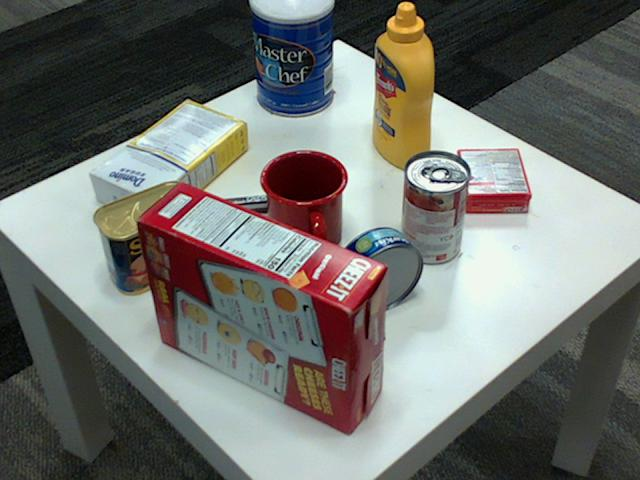cracker_box: (134, 181, 385, 431)
gelatin_box: (457, 149, 533, 211)
large_marker: (204, 190, 312, 219)
master_chef_can: (248, 0, 332, 116)
mug: (260, 146, 349, 255)
mustard_bottle: (372, 3, 433, 169)
potted_meat_can: (94, 180, 202, 295)
sugar_box: (90, 98, 249, 223)
tomato_soup_can: (400, 150, 469, 263)
tuna_fish_can: (334, 226, 423, 312)
